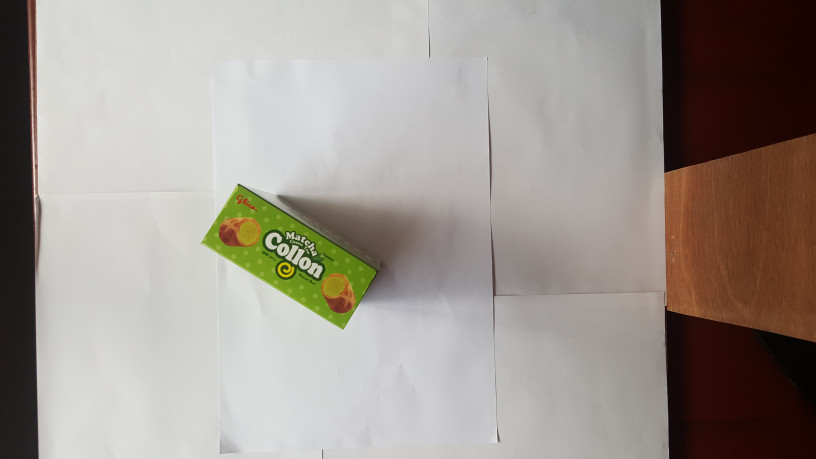collon-matcha: (202, 181, 381, 332)
